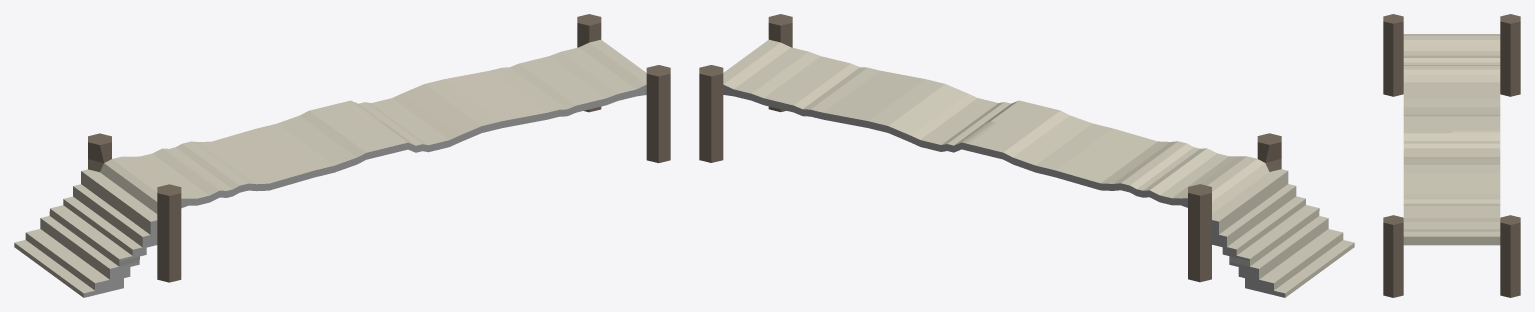
File: boardwalk.fbx
The picture shows the model from 3 angles, left to right: view 1: azimuth 30°, elevation 25°; view 2: azimuth 150°, elevation 25°; view 3: azimuth 270°, elevation 25°; orthographic projection. The views are drawn at different scales.
Parts seen in each view (by area): view 1: pCylinder2; view 2: pCylinder2; view 3: pCylinder2.
Part boxes in pixels (bbox=[...]): pCylinder2: bbox=[14, 14, 670, 297]; pCylinder2: bbox=[699, 14, 1354, 297]; pCylinder2: bbox=[1383, 14, 1520, 297].
Size of the model in its own units: 13.37 by 1.9 by 3.22.
